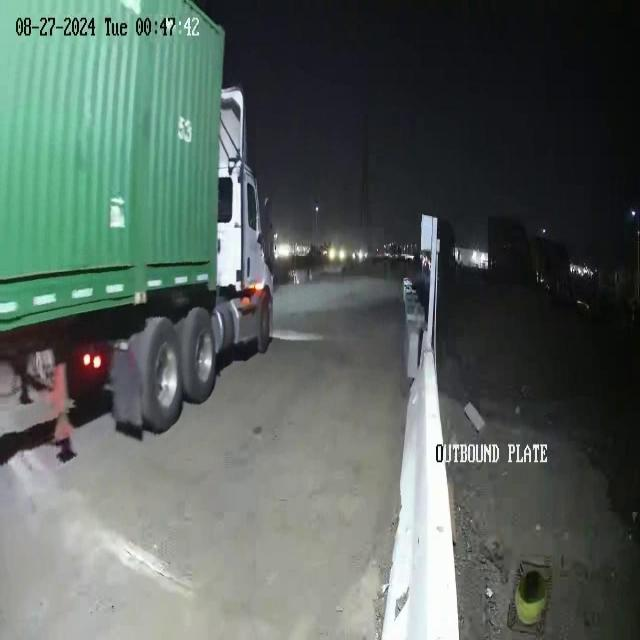TRUCK_IN: (1, 1, 274, 453)
